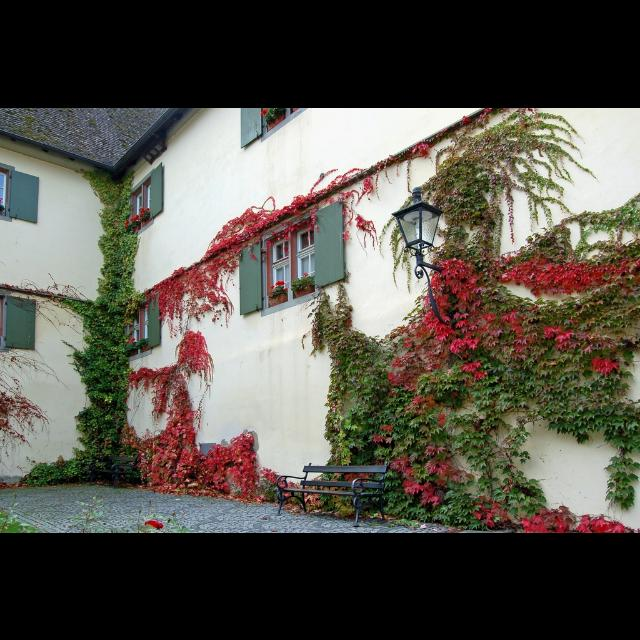Flower: (259, 107, 267, 115)
